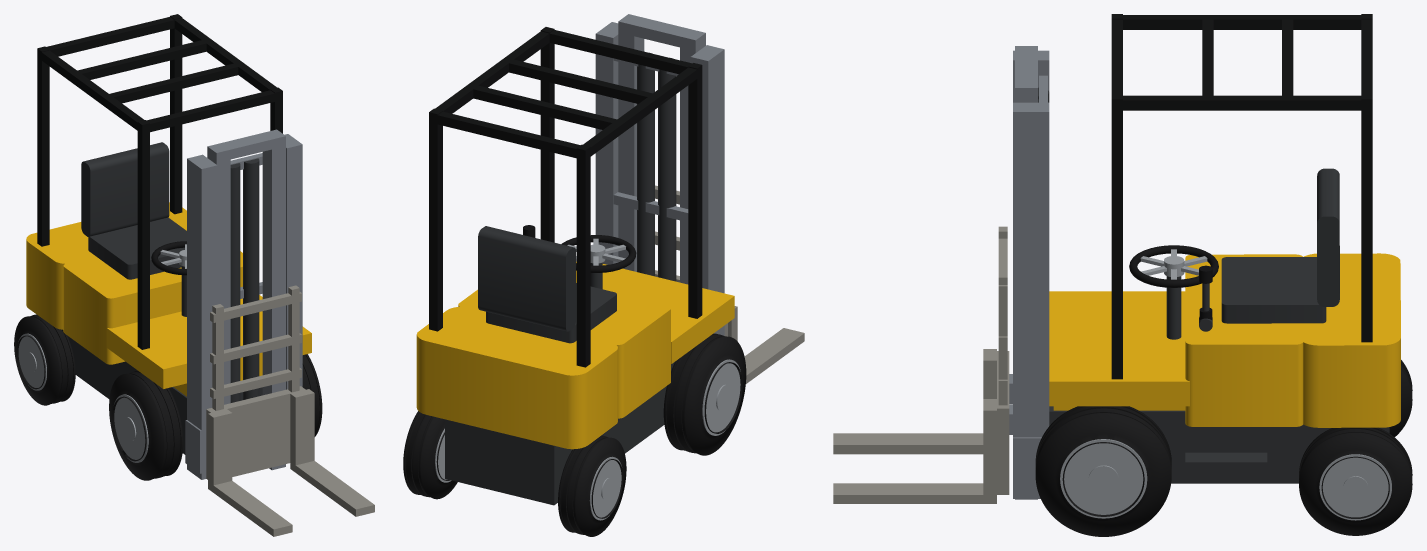
File: forklift.glb
The picture shows the model from 3 angles, left to right: view 1: azimuth 30°, elevation 25°; view 2: azimuth 150°, elevation 25°; view 3: azimuth 270°, elevation 25°; orthographic projection. The views are drawn at different scales.
Visible parts, largest first — view 1: Geom.033, battery_box, seat_backrest, Geom.019, tire.001, Geom.014, Geom.006, counterweight, Geom.028, tire.003, seat_cushion, Geom.032 (+28 smaller); view 2: counterweight, Geom.008, seat_backrest, battery_box, tire.001, Geom.033, Geom.006, tire.003, Geom.032, Geom.042, Geom.029, Geom.019 (+19 smaller); view 3: Geom.006, counterweight, battery_box, Geom.032, tire, Geom.008, tire.002, seat_cushion, Geom.052, Geom.043, Geom.046, Geom.041 (+20 smaller).
Boxes of the visible parts, x1,y1,x2,y2 form: Geom.033: (187,154,217,479); battery_box: (63,251,242,364); seat_backrest: (81,142,169,236); Geom.019: (262,129,285,470); tire.001: (109,371,183,480); Geom.014: (206,386,305,479); Geom.006: (106,295,311,388); counterweight: (26,202,186,329); Geom.028: (243,158,259,399); tire.003: (14,314,75,405); seat_cushion: (88,217,186,279); Geom.032: (284,134,302,389); counterweight: (416,306,617,449); Geom.008: (445,362,674,505); seat_backrest: (478,226,575,331); battery_box: (458,289,670,418); tire.001: (663,333,746,455); Geom.033: (690,45,724,335); Geom.006: (576,261,734,363); tire.003: (558,435,626,536); Geom.032: (595,22,618,264); Geom.042: (688,63,702,318); Geom.029: (658,57,676,281); Geom.019: (618,14,644,271); Geom.006: (1049,291,1189,406); counterweight: (1299,253,1400,427); battery_box: (1185,254,1303,426); Geom.032: (1013,102,1049,498); tire: (1035,406,1171,536); Geom.008: (1049,406,1389,483); tire.002: (1299,427,1412,535); seat_cushion: (1221,257,1326,323); Geom.052: (1060,439,1147,518); Geom.043: (1114,95,1372,110); Geom.046: (1123,15,1361,29); Geom.041: (1111,94,1122,379).
Size of the model in its own units: 1.1 by 2.1 by 2.55.
